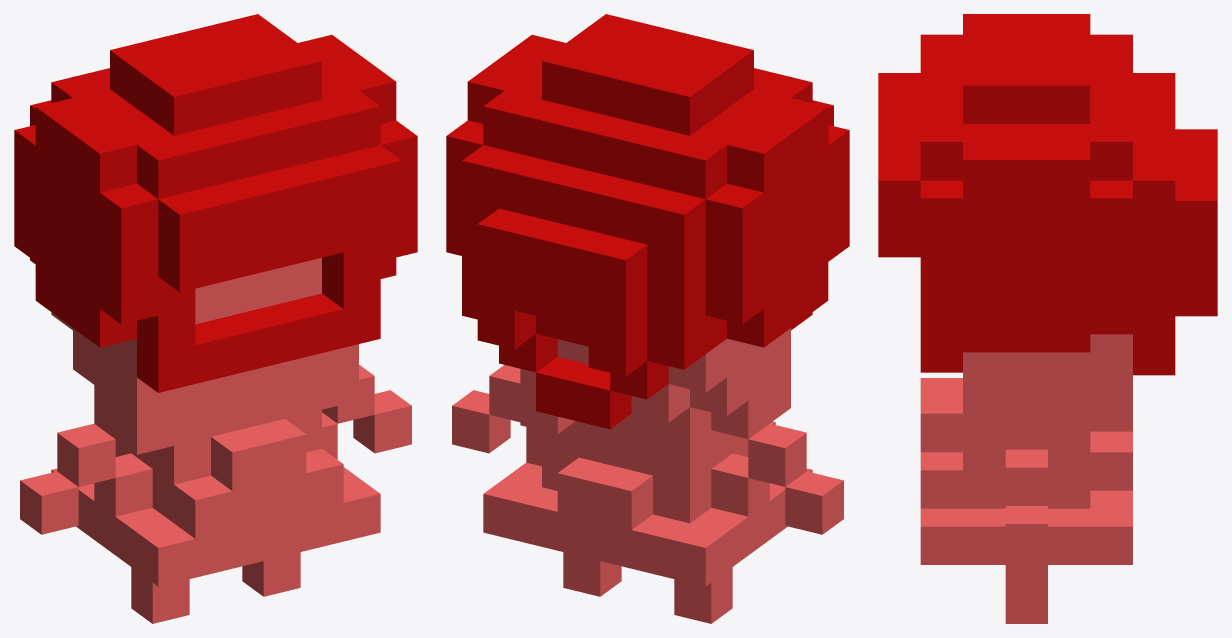
Rendered from Enemy.obj.
3 renders of one model, left to right at view 1: azimuth 30°, elevation 25°; view 2: azimuth 150°, elevation 25°; view 3: azimuth 270°, elevation 25°, orthographic.
Bounding box in the file's own units: 1 × 1.4 × 0.8.
Materials: 1 (1 with a texture image).
